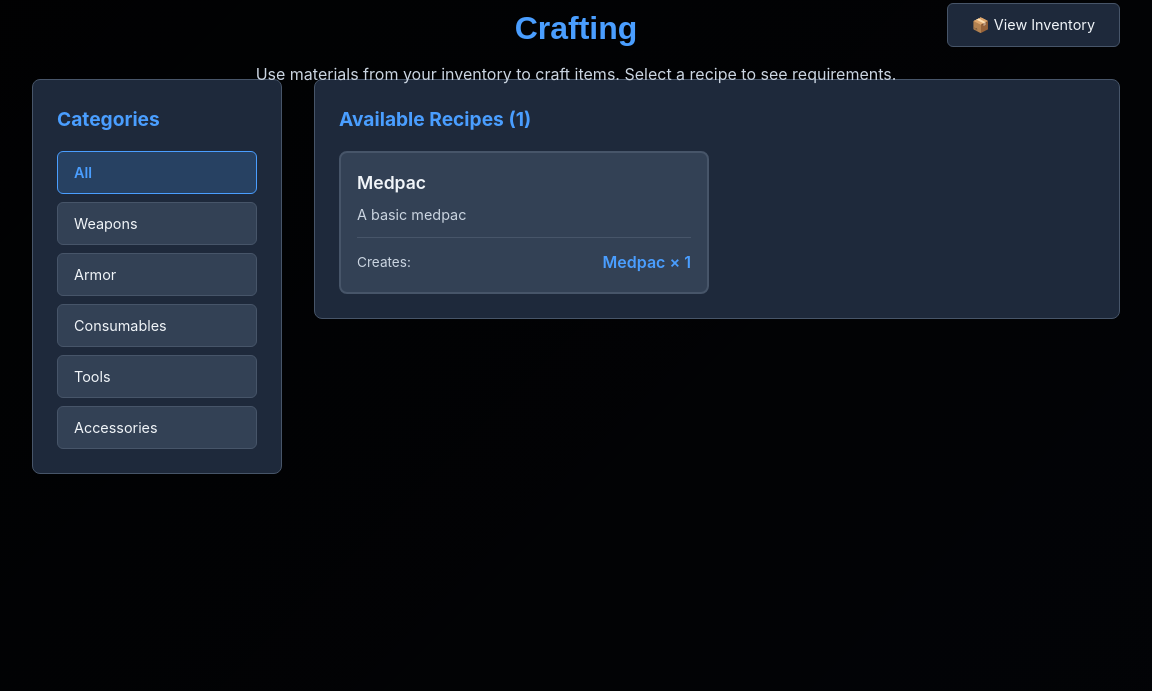
Test: CraftingView › shows a craft button after a recipe is selected
Click the heading "Medpac": (392, 183) [357,169,426,197]
(page scrolled)
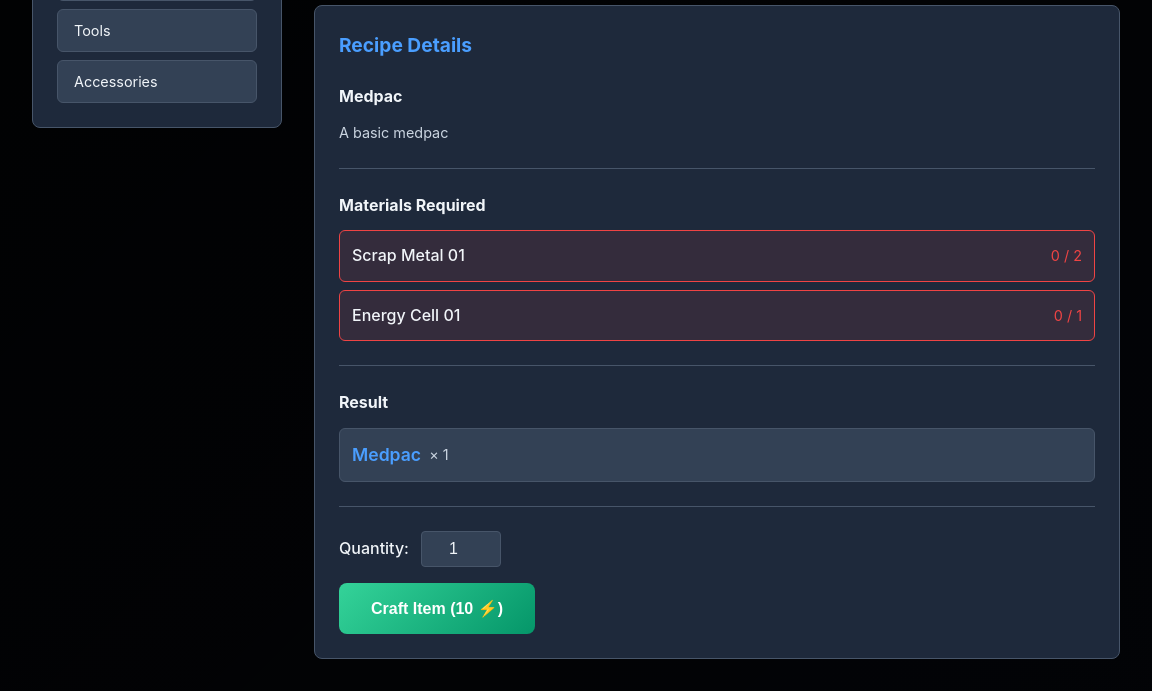
Now the button "Craft Item (10 ⚡)" is shown, box [339,583,535,634]
